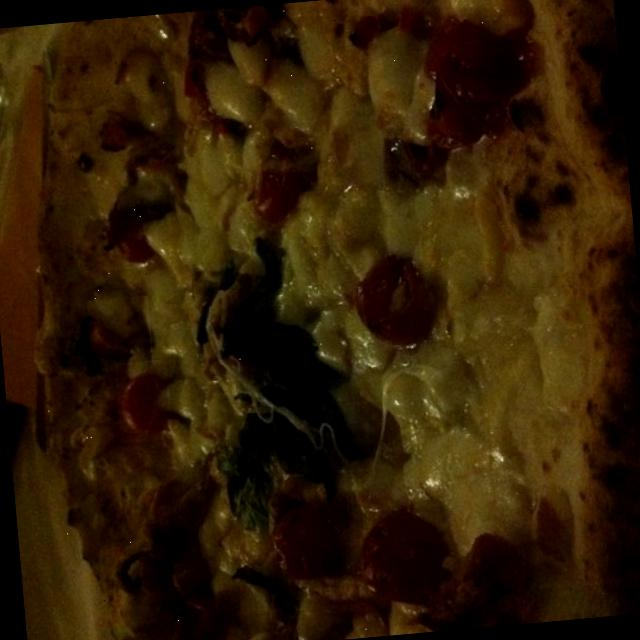basil: (206, 266, 340, 495), (278, 399, 372, 476), (217, 444, 271, 532), (246, 228, 292, 306)
cheese: (138, 61, 598, 619)
pizza: (38, 0, 640, 640)
tomato: (417, 13, 528, 122), (359, 504, 453, 618), (352, 250, 444, 352), (266, 494, 354, 591), (462, 527, 535, 628), (168, 9, 232, 118), (243, 140, 320, 222), (90, 101, 168, 179), (114, 358, 173, 442), (86, 294, 154, 356), (106, 215, 160, 269)
